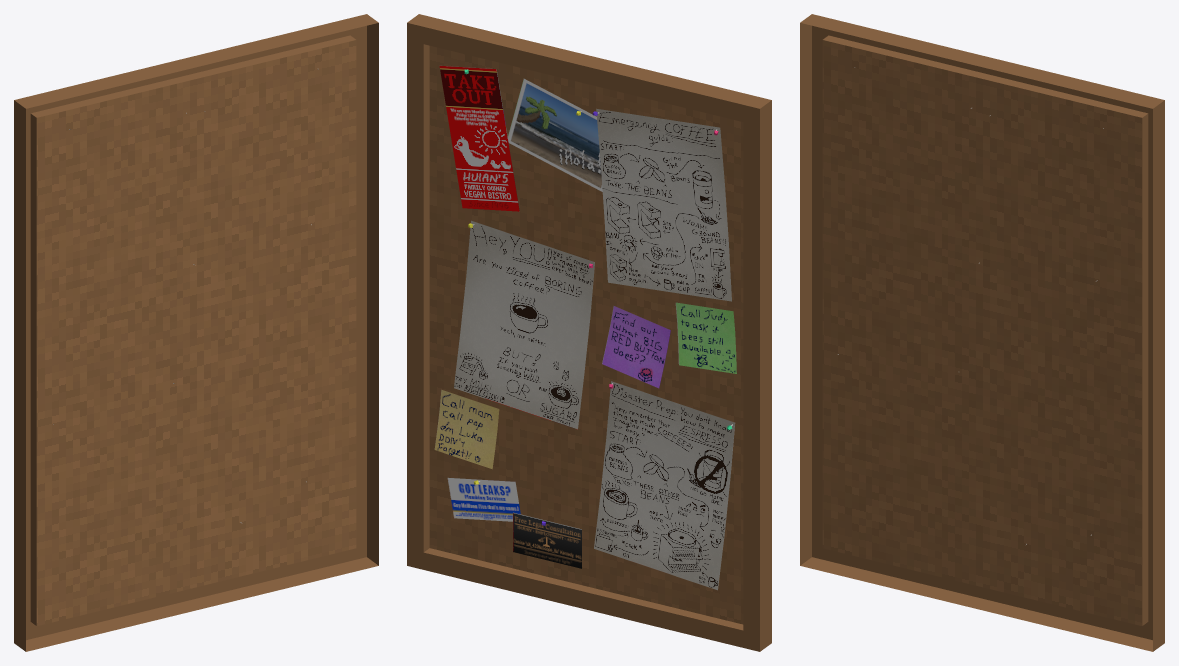
Rendered from Corkboard new.fbx.
The picture shows the model from 3 angles, left to right: view 1: azimuth 30°, elevation 25°; view 2: azimuth 150°, elevation 25°; view 3: azimuth 330°, elevation 25°; orthographic projection.
Parts seen in each view (by area): view 1: Corkboard; view 2: Corkboard, Paper_3, Paper_2, Paper_1, TakeoutMenu, Postcard, Sticky_A, Sticky_C, Sticky_B, BusinessCard_A, BusinessCard_B; view 3: Corkboard.
Boxes of the visible parts, x1=… form: Corkboard: x1=14, y1=14, x2=378, y2=651; Corkboard: x1=407, y1=14, x2=771, y2=651; Paper_3: x1=594, y1=381, x2=735, y2=590; Paper_2: x1=454, y1=220, x2=594, y2=429; Paper_1: x1=592, y1=108, x2=731, y2=301; TakeoutMenu: x1=439, y1=65, x2=519, y2=211; Postcard: x1=507, y1=78, x2=602, y2=191; Sticky_A: x1=602, y1=306, x2=670, y2=388; Sticky_C: x1=434, y1=389, x2=499, y2=469; Sticky_B: x1=675, y1=302, x2=736, y2=373; BusinessCard_A: x1=513, y1=512, x2=581, y2=568; BusinessCard_B: x1=447, y1=477, x2=520, y2=521; Corkboard: x1=800, y1=14, x2=1164, y2=651.
Bounding box in the file's own units: 85 × 125 × 5.
2 materials, 2 textured.
